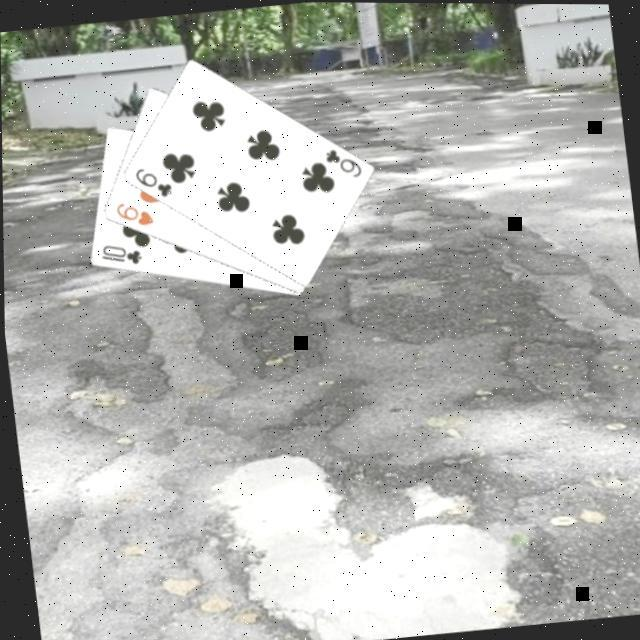10C: (94, 237, 144, 270)
6C: (128, 160, 174, 202), (319, 142, 363, 182)
6H: (110, 196, 154, 230)
